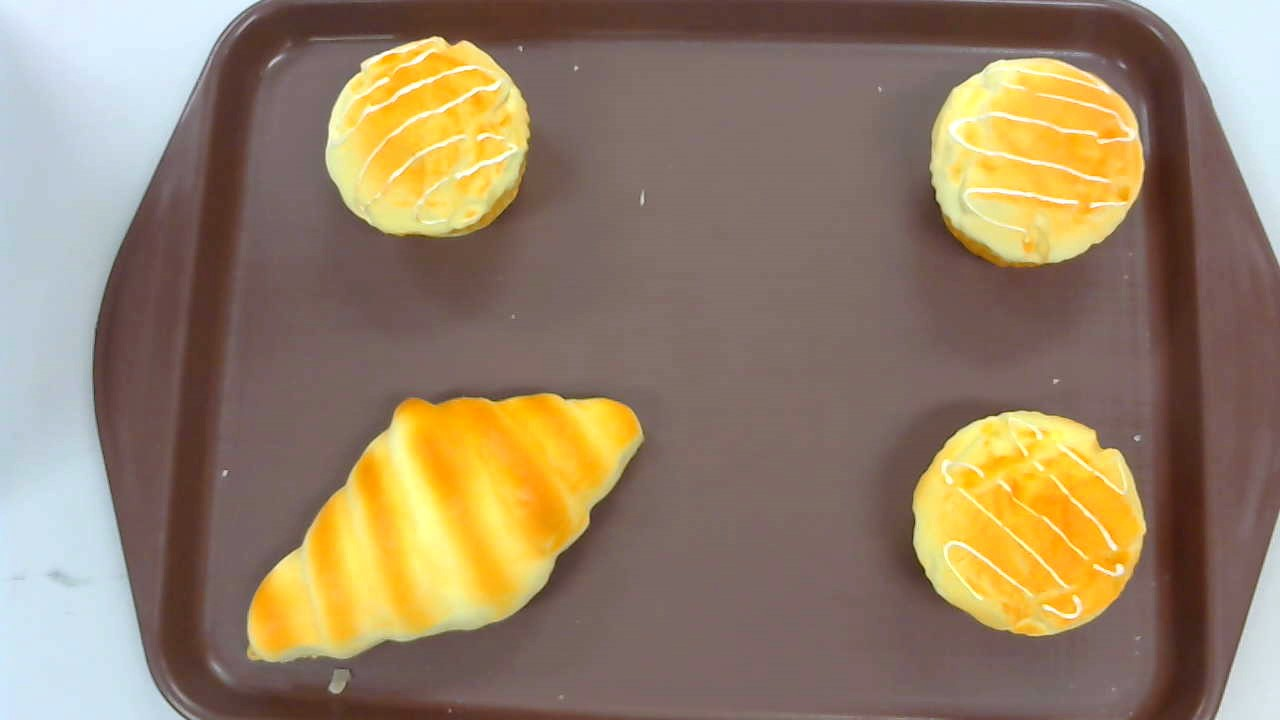croissant: (244, 391, 643, 663)
cupcake: (912, 410, 1147, 636), (930, 55, 1145, 270), (325, 36, 531, 240)
